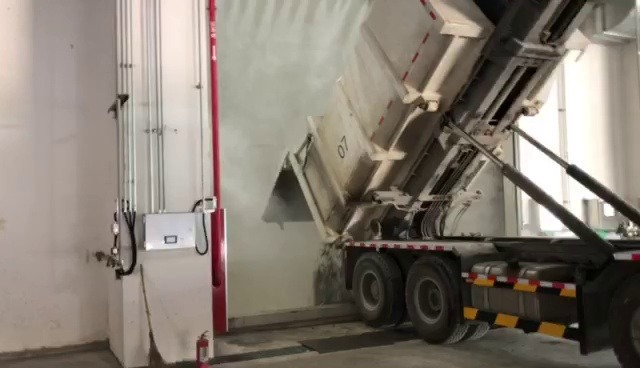dust: (219, 54, 341, 302)
truck: (289, 0, 640, 368)
